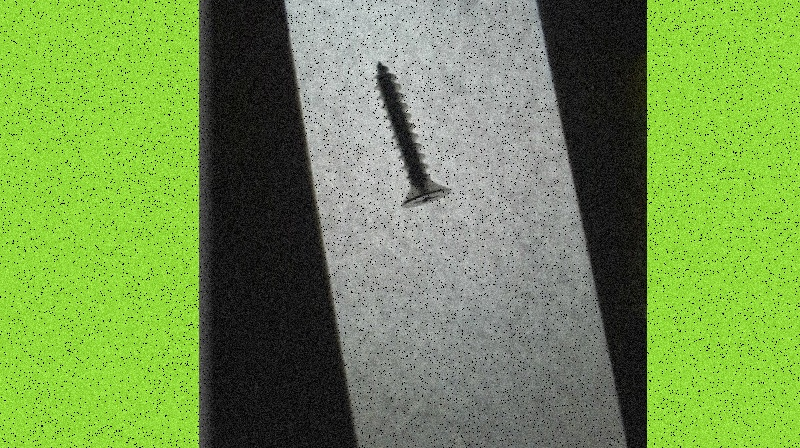S001: (371, 56, 452, 210)
